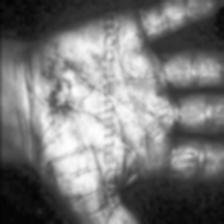Non-Cancerous Skin Condition: (10, 20, 133, 224), (117, 0, 224, 170)
